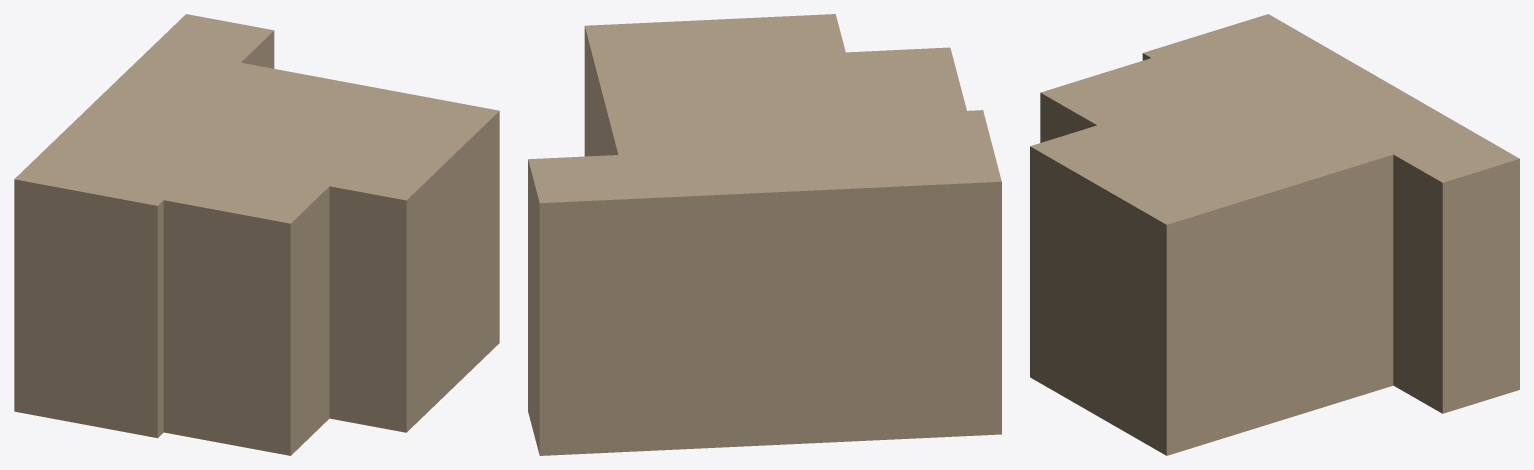
File: bld_106338950.dae
3 views of the same model, side by side, from view 1: azimuth 30°, elevation 25°; view 2: azimuth 150°, elevation 25°; view 3: azimuth 270°, elevation 25° (orthographic). The views are drawn at different scales.
Parts seen in each view (by area): view 1: bld_106338950; view 2: bld_106338950; view 3: bld_106338950.
Part boxes in pixels (x1,y1,x2,y2): bld_106338950: (14,14,499,455); bld_106338950: (528,14,1001,455); bld_106338950: (1030,14,1519,455).
Bounding box in the file's own units: 15.66 × 15.37 × 8.
